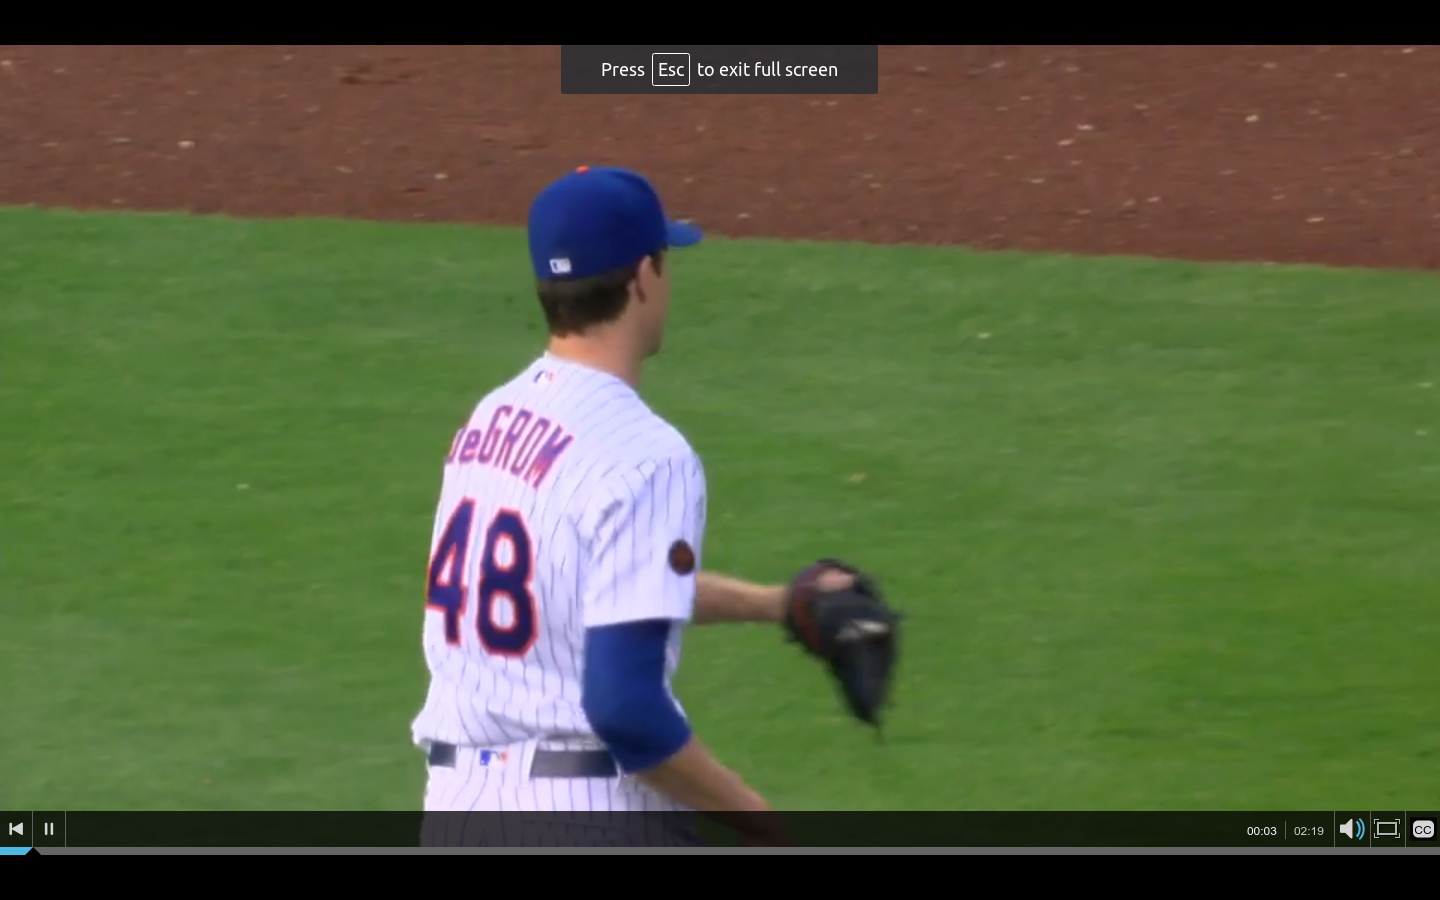baseball player: (368, 152, 927, 814)
